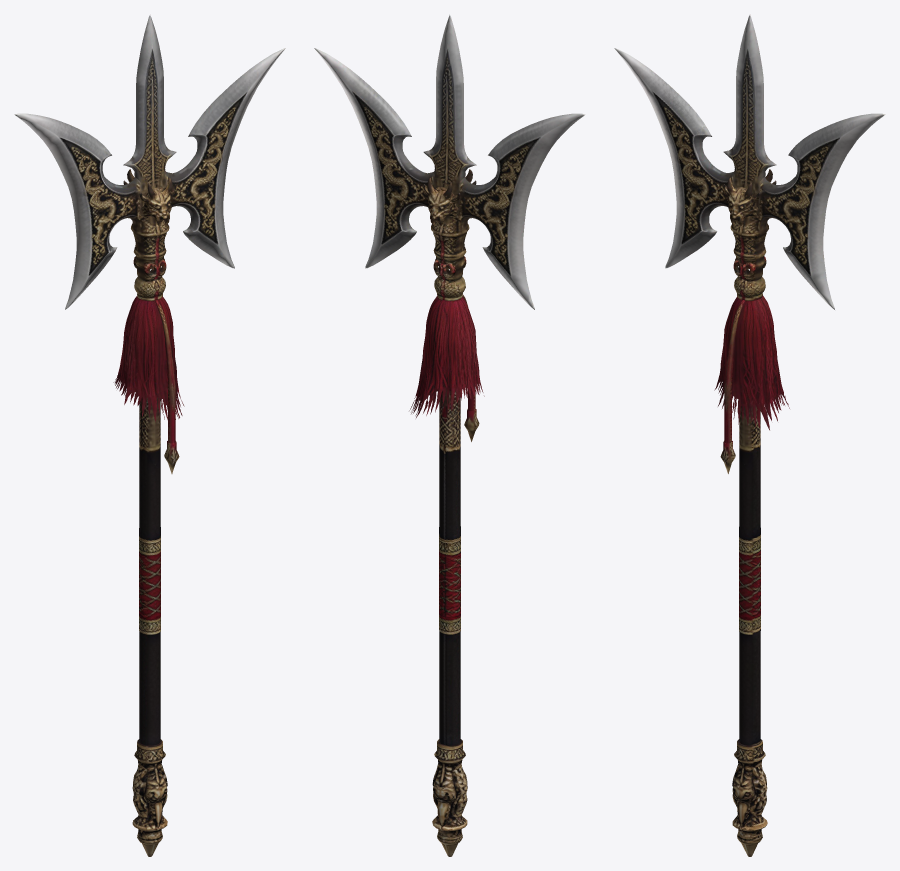
The model's file is halberd.glb.
The picture shows the model from 3 angles, left to right: view 1: azimuth 30°, elevation 25°; view 2: azimuth 150°, elevation 25°; view 3: azimuth 330°, elevation 25°; orthographic projection.
Visible parts, largest first — view 1: tripo_37802ab8_caa7_4ec0_a245_5310050d5fb9; view 2: tripo_37802ab8_caa7_4ec0_a245_5310050d5fb9; view 3: tripo_37802ab8_caa7_4ec0_a245_5310050d5fb9.
Part boxes in pixels (x1,y1,x2,y2): tripo_37802ab8_caa7_4ec0_a245_5310050d5fb9: (14, 14, 285, 856); tripo_37802ab8_caa7_4ec0_a245_5310050d5fb9: (314, 14, 585, 856); tripo_37802ab8_caa7_4ec0_a245_5310050d5fb9: (614, 14, 885, 856).
Size of the model in its own units: 0.3374 by 0.9995 by 0.1021.
Materials: 1 (1 with a texture image).
